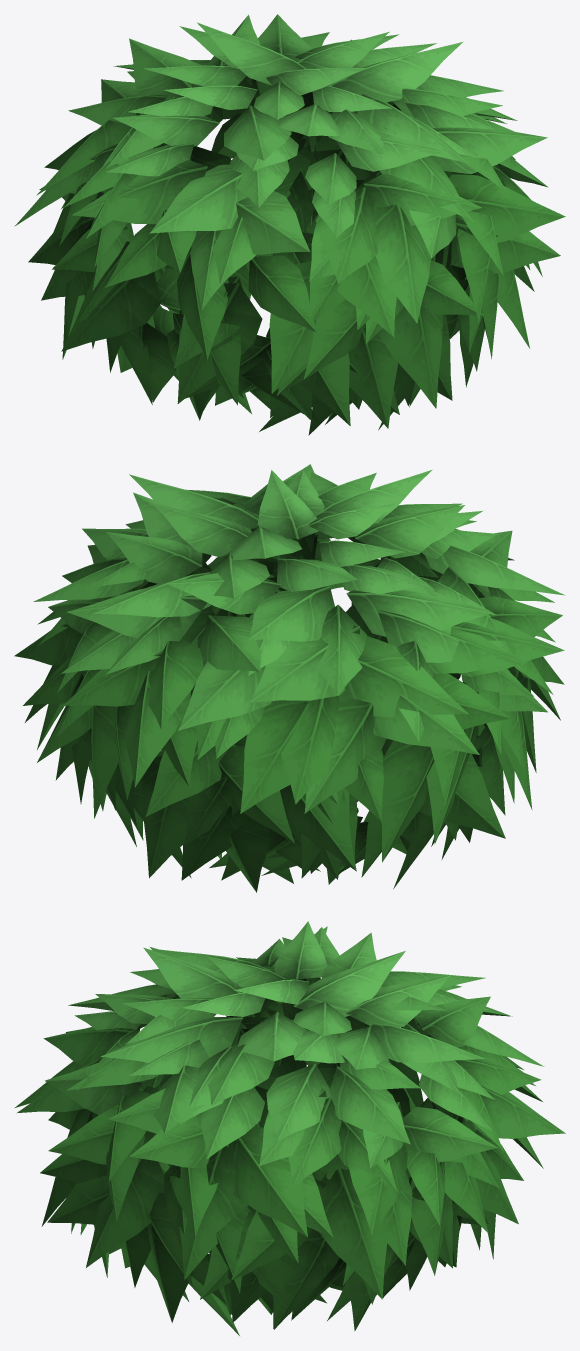
3 renders of one model, top to bottom at view 1: azimuth 30°, elevation 25°; view 2: azimuth 150°, elevation 25°; view 3: azimuth 270°, elevation 25°, orthographic. The views are drawn at different scales.
Parts seen in each view (by area): view 1: grid_3_leaves_LOD0; view 2: grid_3_leaves_LOD0; view 3: grid_3_leaves_LOD0.
Part boxes in pixels (x1,y1,x2,y2): grid_3_leaves_LOD0: [14, 14, 565, 435]; grid_3_leaves_LOD0: [14, 464, 565, 892]; grid_3_leaves_LOD0: [15, 921, 565, 1335].
Size of what is drawn, in the model's own units: 1.35 by 0.9275 by 1.43.
Materials: 1 (1 with a texture image).
